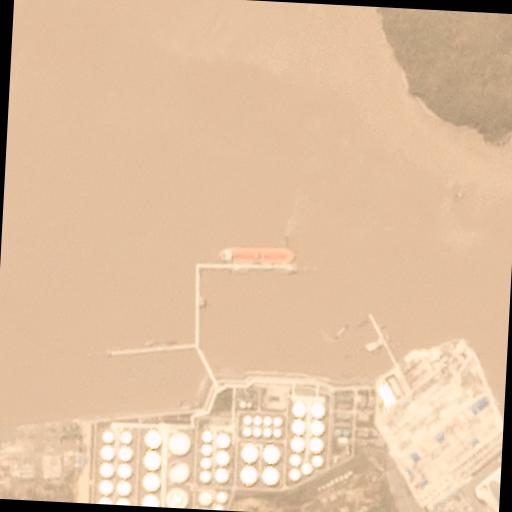ship: (218, 244, 294, 268), (332, 323, 348, 339)
